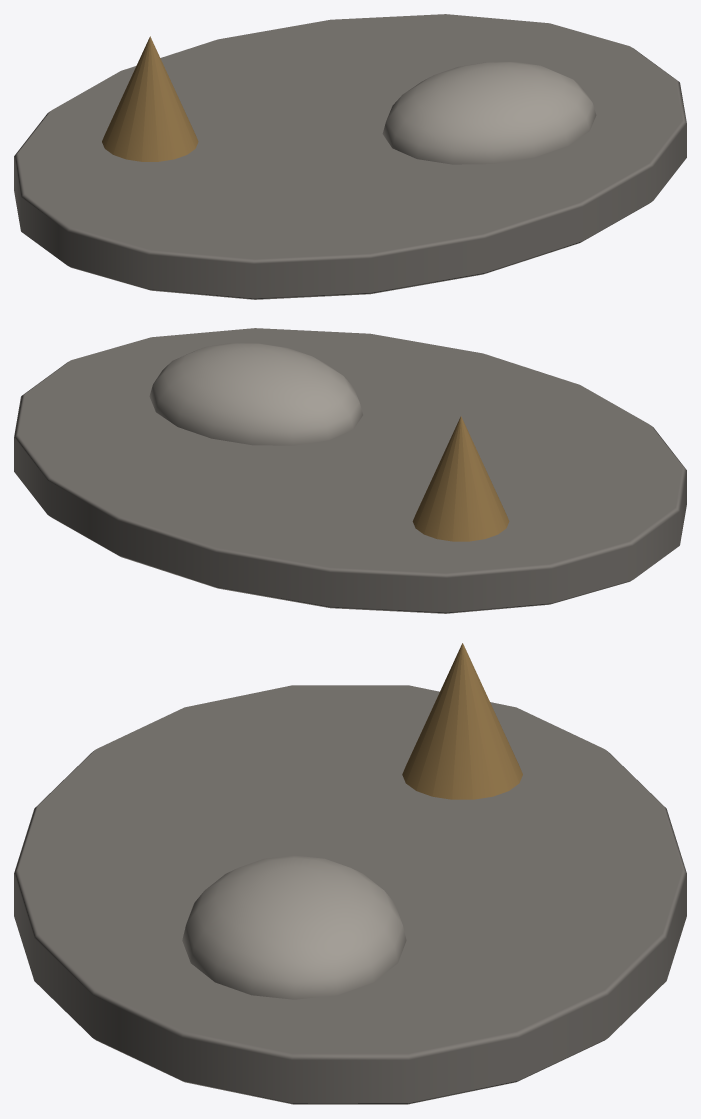
The model's file is ashes.c084c7ca.glb.
3 renders of one model, top to bottom at view 1: azimuth 30°, elevation 25°; view 2: azimuth 150°, elevation 25°; view 3: azimuth 270°, elevation 25°, orthographic. The views are drawn at different scales.
Visible parts, largest first — view 1: body; view 2: body; view 3: body.
Boxes of the visible parts, <box> form: body: <box>14,14,686,299</box>; body: <box>14,328,686,613</box>; body: <box>14,643,686,1104</box>.
Bounding box in the file's own units: 0.7878 × 0.19 × 0.6.
